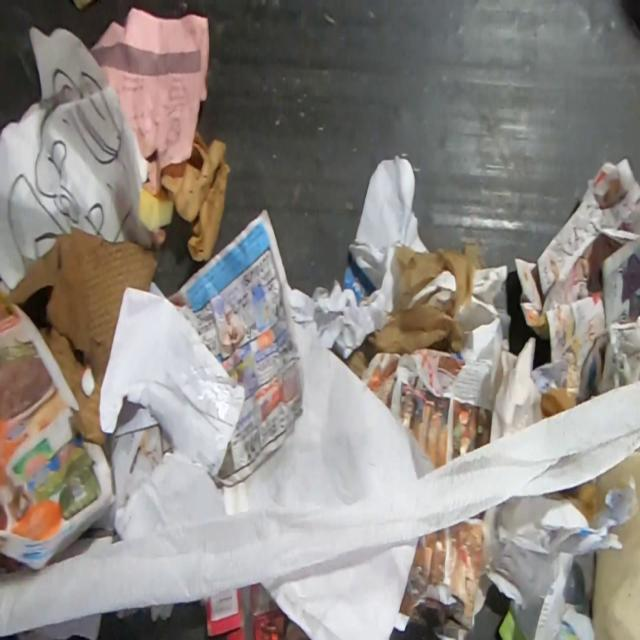cardboard: (0, 278, 118, 570), (7, 224, 162, 446), (160, 129, 231, 262), (199, 581, 289, 640)
